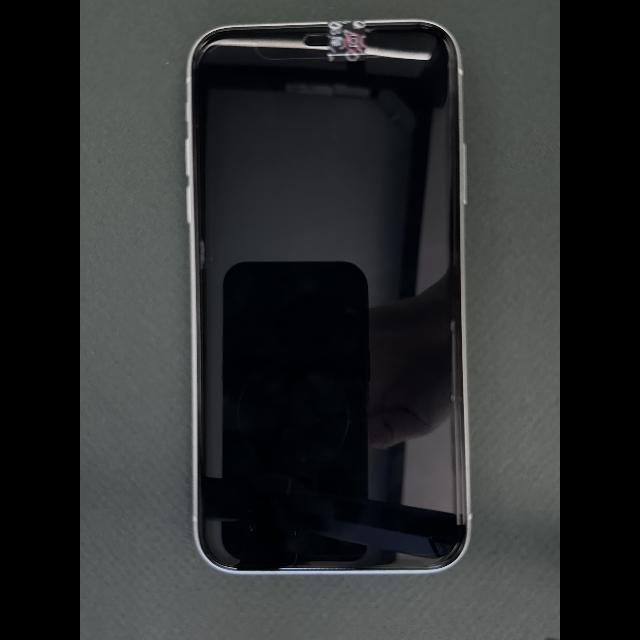phone: (185, 19, 472, 575)
sticker: (327, 20, 366, 62)
